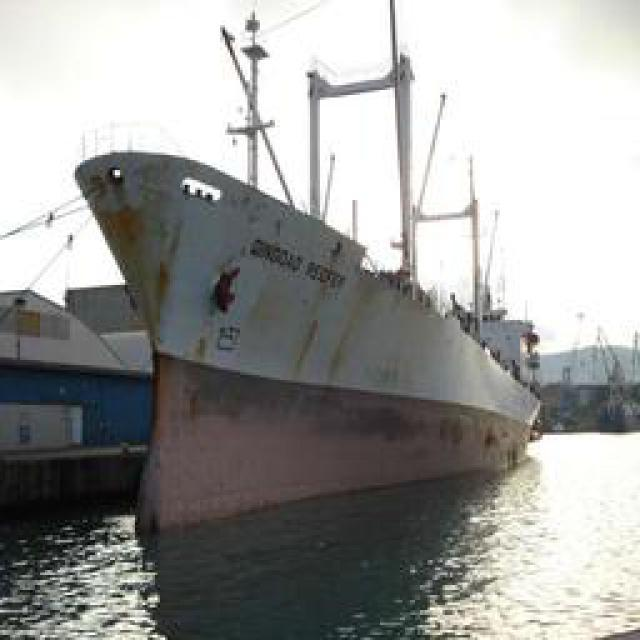Ship: (85, 138, 540, 533)
